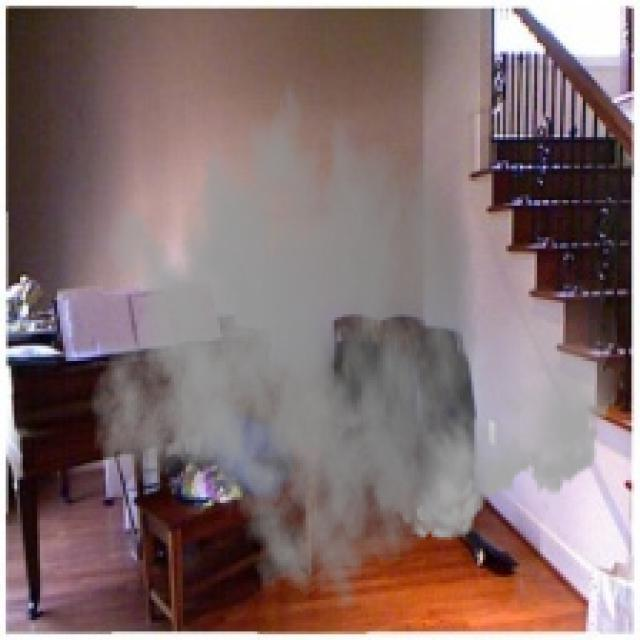Smoke: (89, 54, 626, 612)
